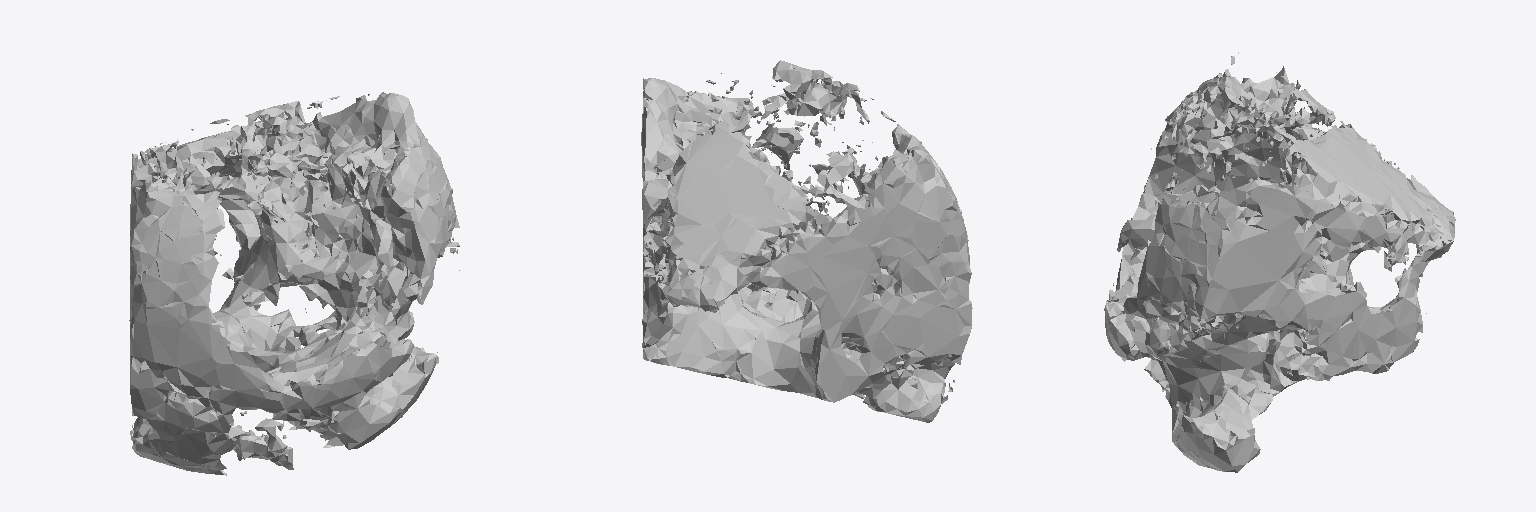
Rendered from B939XXXX-1_base_0.obj.
3 views of the same model, side by side, from view 1: azimuth 30°, elevation 25°; view 2: azimuth 150°, elevation 25°; view 3: azimuth 270°, elevation 25° (orthographic).
Visible parts, largest first — view 1: 0_base; view 2: 0_base; view 3: 0_base.
Boxes of the visible parts, box(x1,y1,x2,y2) form: 0_base: box(129, 92, 459, 475); 0_base: box(641, 60, 972, 422); 0_base: box(1104, 52, 1455, 472).
Bounding box in the file's own units: 218 × 218 × 202.